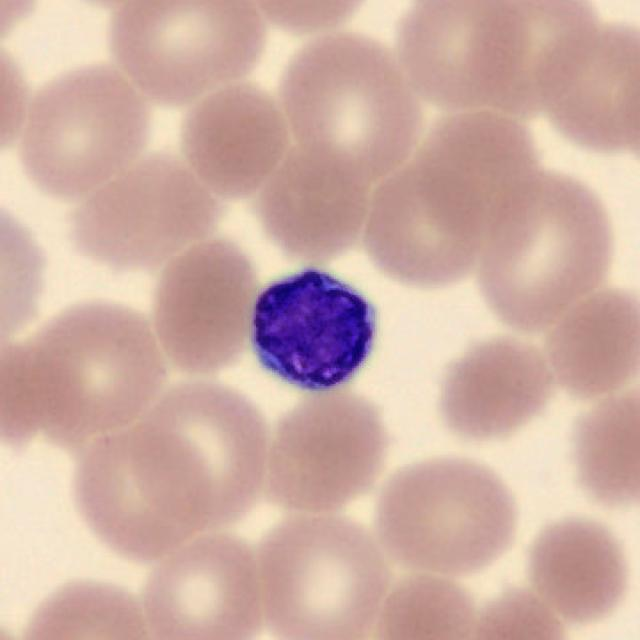Linfocito: (249, 270, 375, 393)
